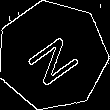N_NE: (20, 25, 86, 86)
